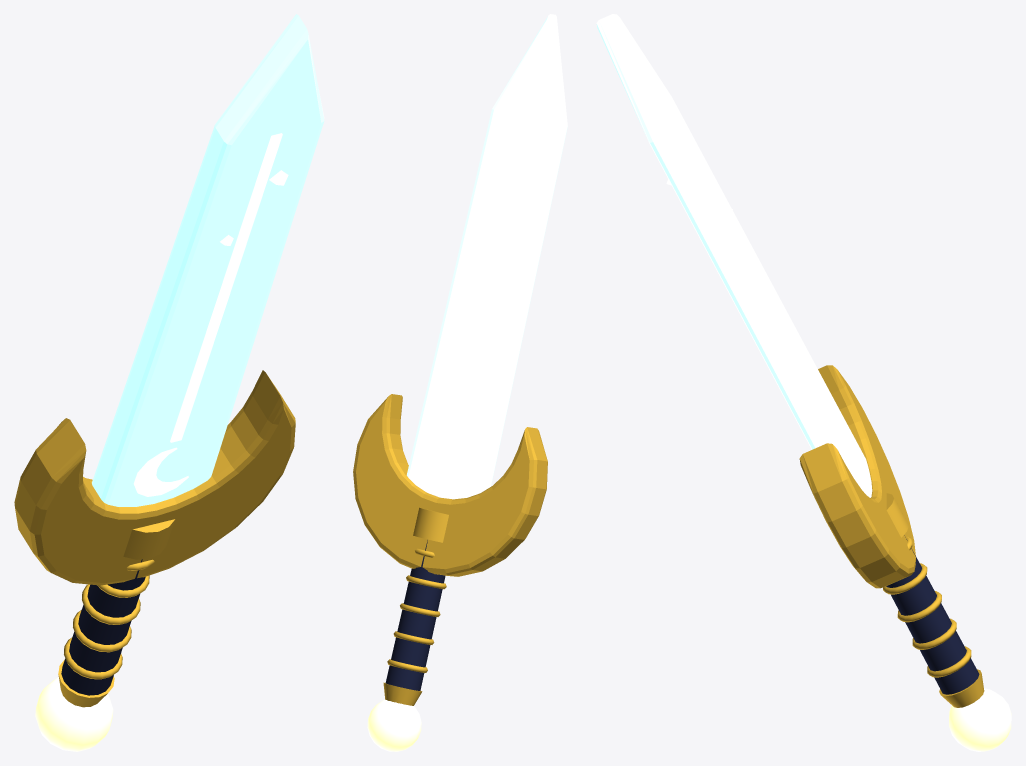
File: hand_eqmoon4.glb
3 renders of one model, left to right at view 1: azimuth 30°, elevation 25°; view 2: azimuth 150°, elevation 25°; view 3: azimuth 270°, elevation 25°, orthographic. The views are drawn at different scales.
Bounding box in the file's own units: 1.4 × 4.66 × 2.39.
